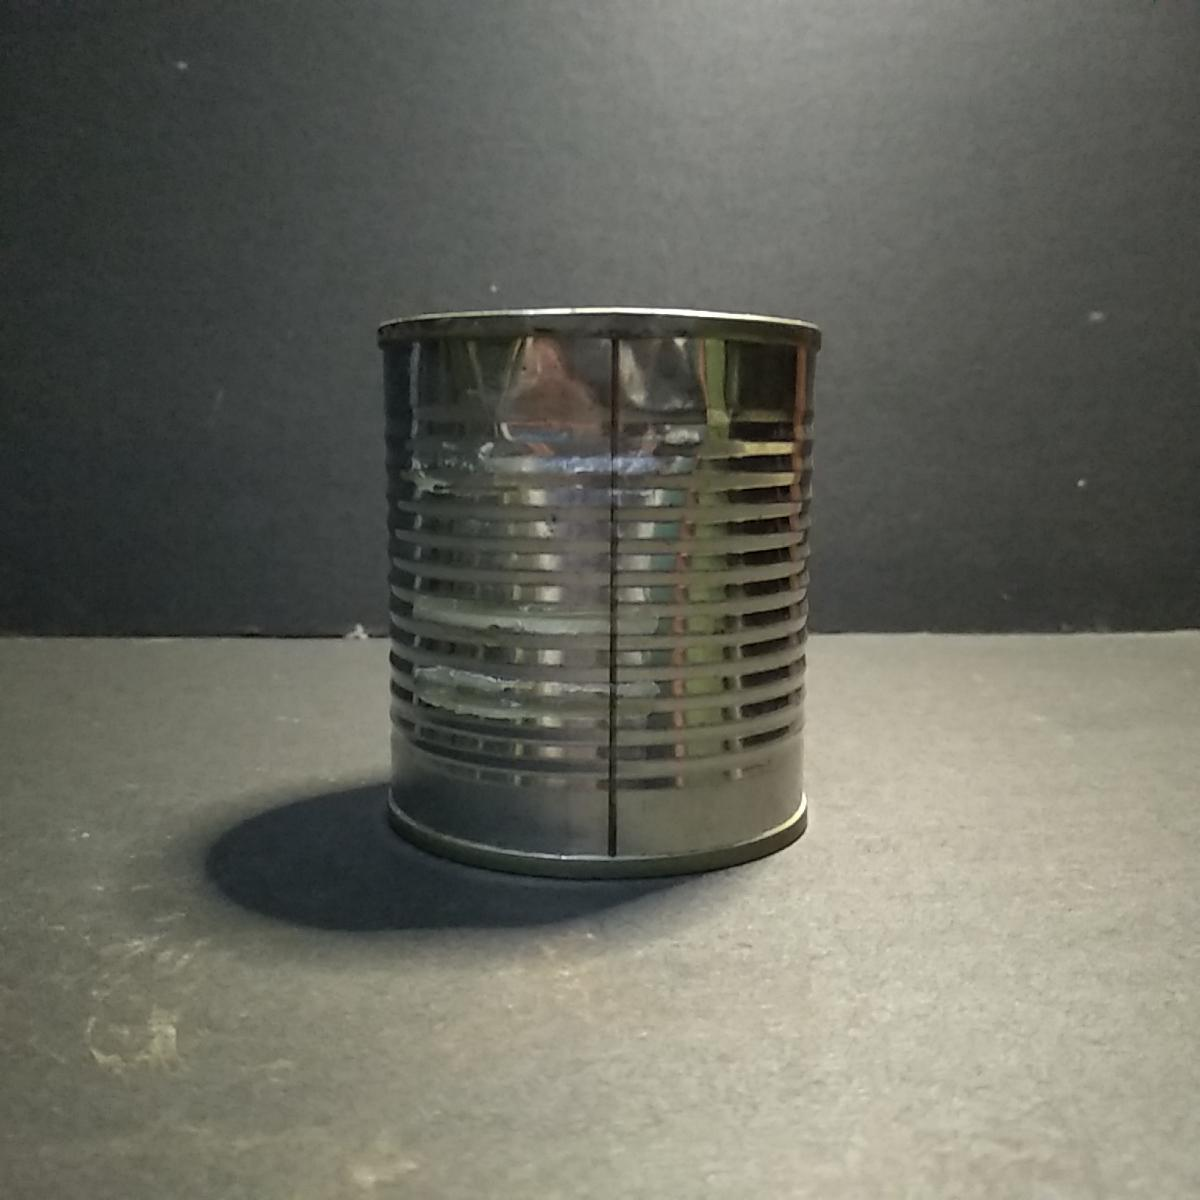Dented: (378, 290, 836, 870)
